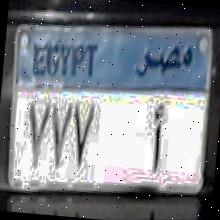7: (70, 100, 98, 170), (24, 101, 50, 171), (48, 101, 74, 166)
alif: (142, 96, 170, 175)
